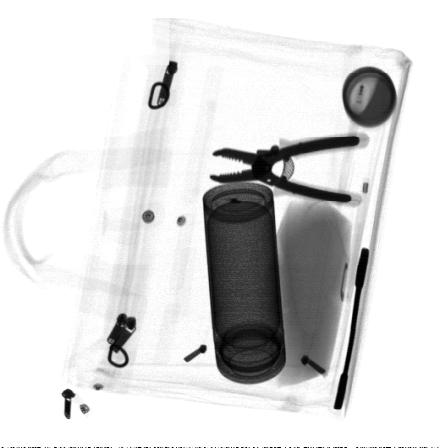Pliers: (207, 130, 371, 210)
Wrench: (331, 247, 371, 410)
